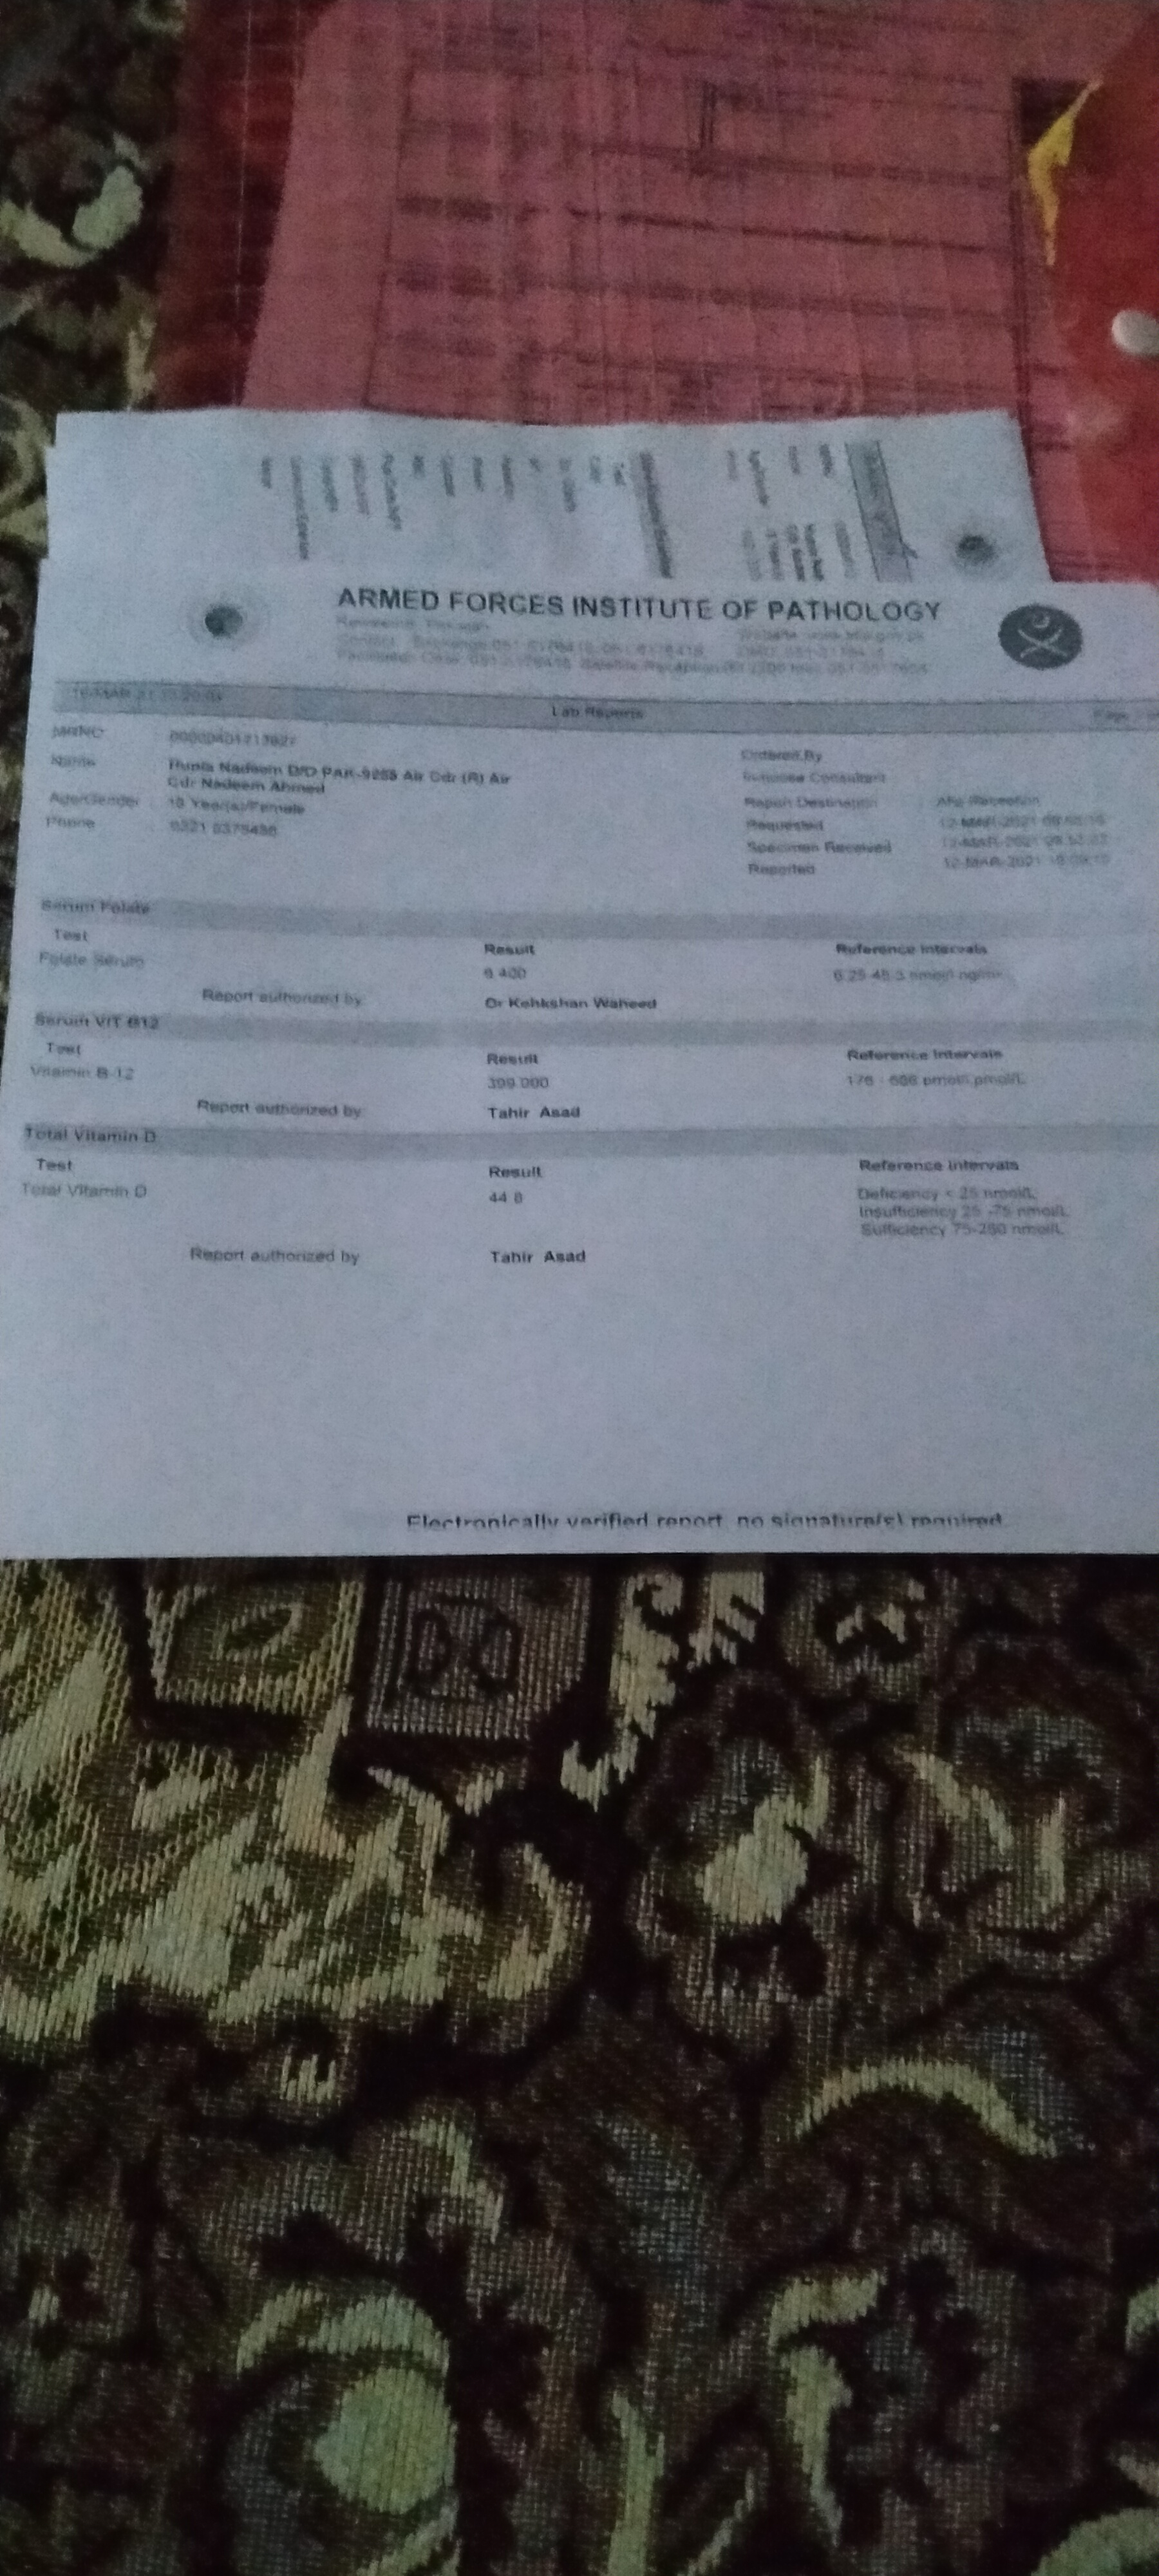report: (28, 884, 1159, 1318)
